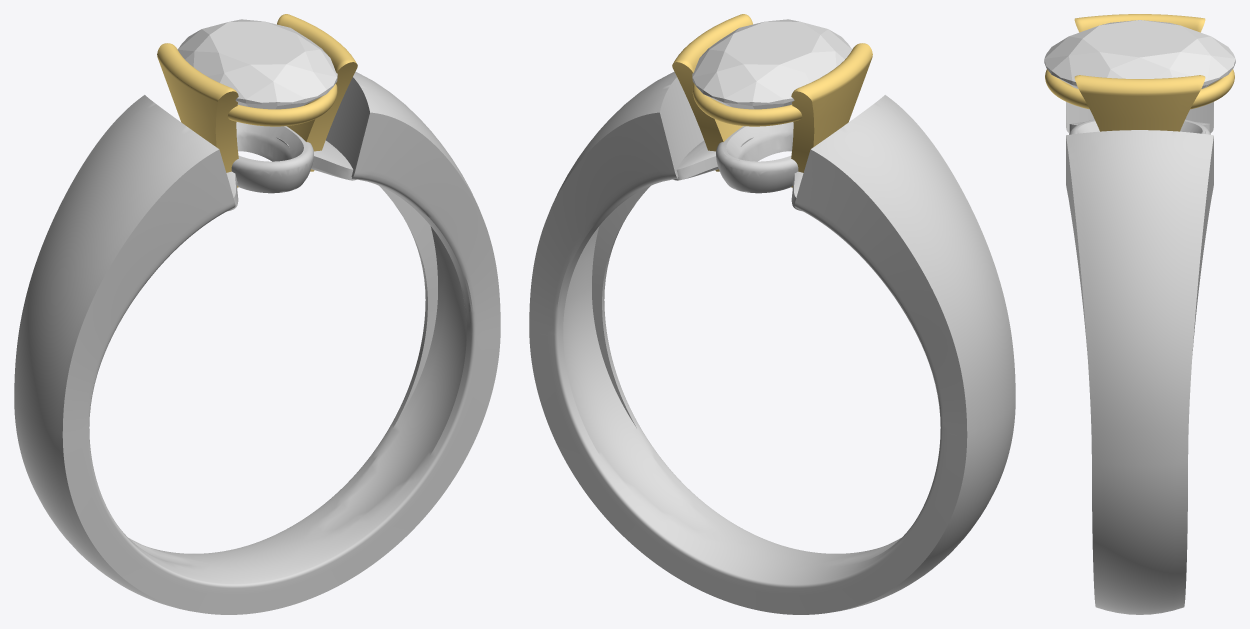
File: KathyVersion4.glb
The picture shows the model from 3 angles, left to right: view 1: azimuth 30°, elevation 25°; view 2: azimuth 150°, elevation 25°; view 3: azimuth 270°, elevation 25°; orthographic projection.
Visible parts, largest first — view 1: v4 Kathy PT for 3d model, Kathy dia for 3d model, v3 Kathy YG for 3d model; view 2: v4 Kathy PT for 3d model, Kathy dia for 3d model, v3 Kathy YG for 3d model; view 3: v4 Kathy PT for 3d model, Kathy dia for 3d model, v3 Kathy YG for 3d model.
Boxes of the visible parts, x1,y1,x2,y2 form: v4 Kathy PT for 3d model: [14, 71, 500, 614]; Kathy dia for 3d model: [177, 19, 337, 109]; v3 Kathy YG for 3d model: [157, 14, 357, 187]; v4 Kathy PT for 3d model: [529, 71, 1015, 614]; Kathy dia for 3d model: [692, 19, 852, 109]; v3 Kathy YG for 3d model: [672, 14, 872, 187]; v4 Kathy PT for 3d model: [1066, 85, 1213, 614]; Kathy dia for 3d model: [1044, 20, 1235, 88]; v3 Kathy YG for 3d model: [1045, 14, 1234, 131].
Size of the model in its own units: 20.94 by 24.68 by 7.75.
